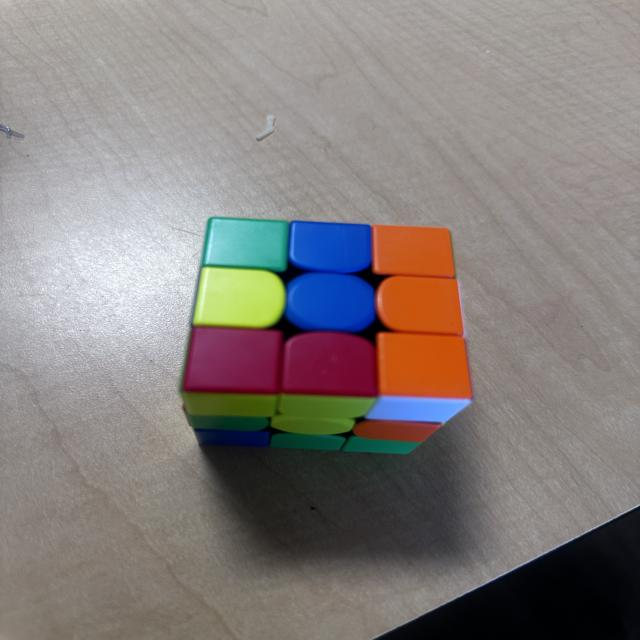sticker: (371, 332, 474, 421), (182, 327, 287, 411), (278, 331, 381, 407), (282, 271, 379, 336), (193, 267, 288, 331), (374, 276, 467, 338), (201, 217, 292, 274), (286, 220, 373, 277), (370, 224, 458, 280), (274, 394, 375, 424), (348, 419, 442, 450), (182, 392, 280, 421), (340, 433, 426, 456), (186, 413, 272, 434), (272, 415, 357, 436), (192, 428, 271, 448), (271, 432, 349, 452)
